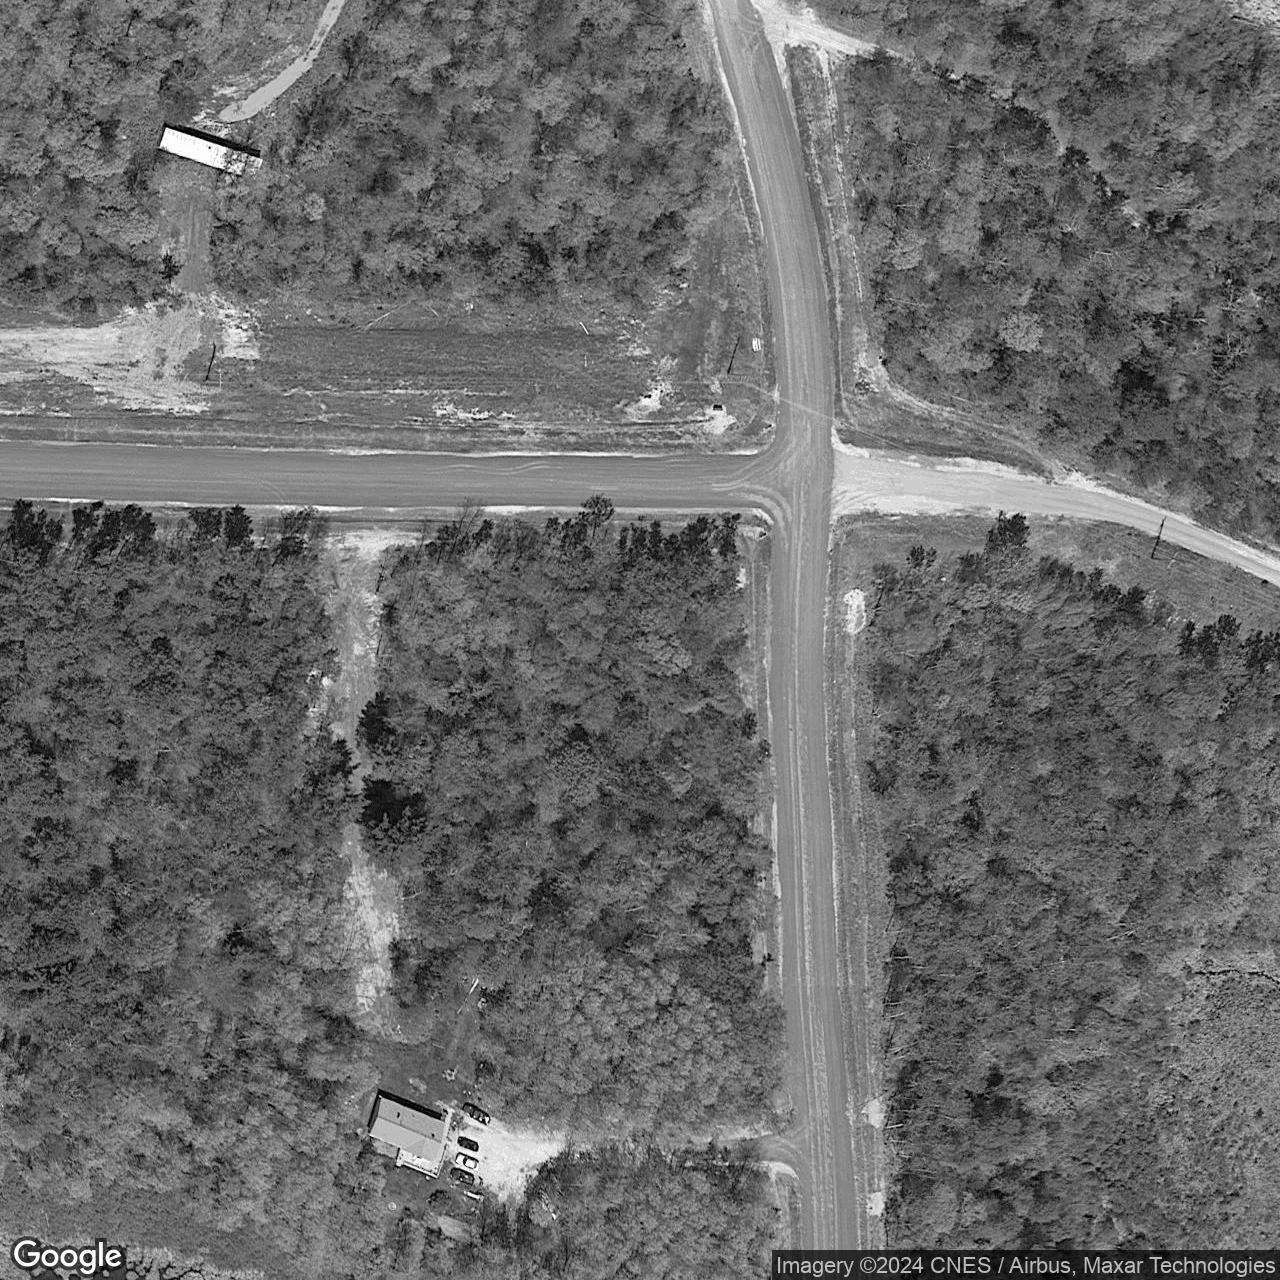House: (366, 1095, 445, 1165)
Trailer: (157, 125, 265, 183)
